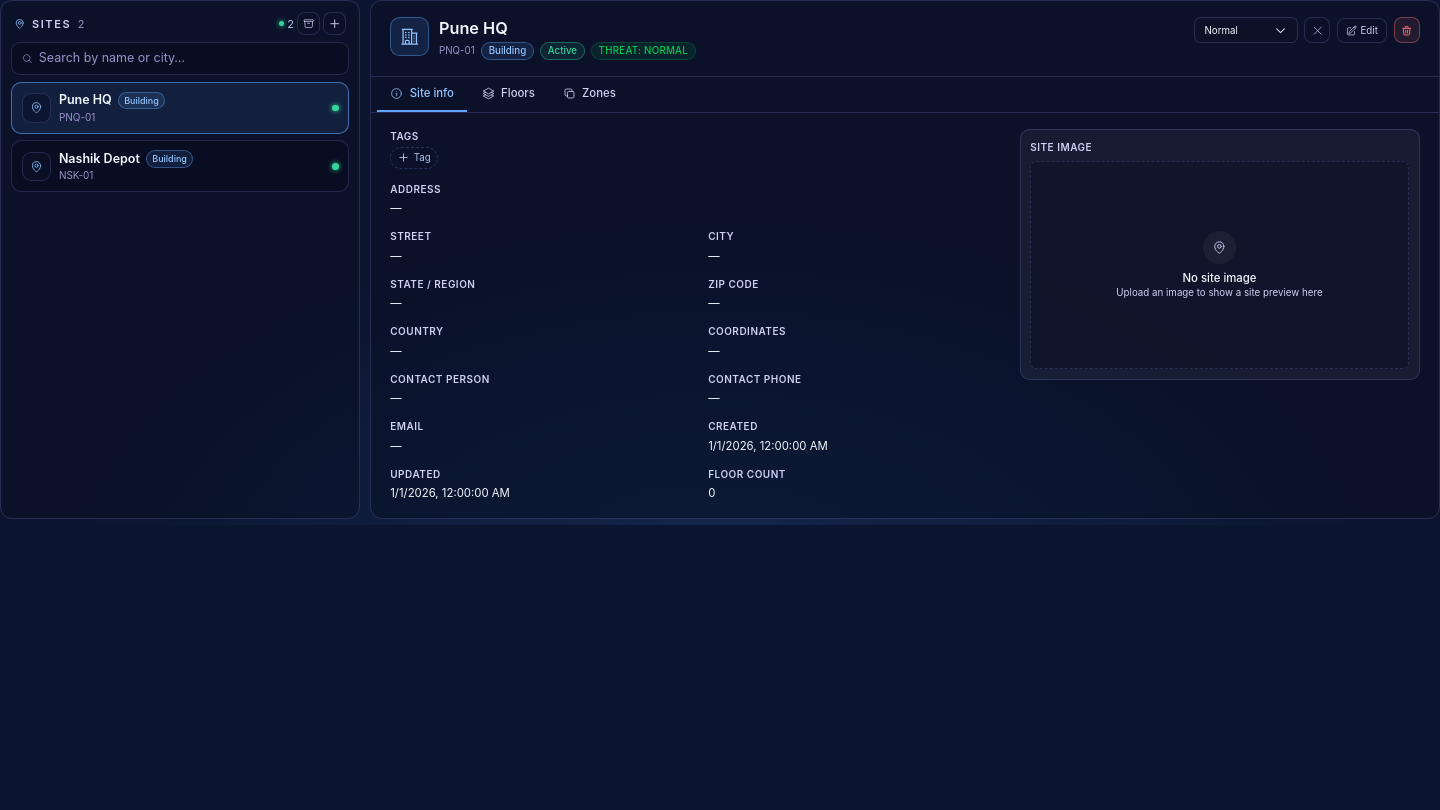
Test case: deactivating a site › asks first, and says what actually happens
Click the button named "deactivate site": (1406, 30) [1394, 17, 1420, 43]
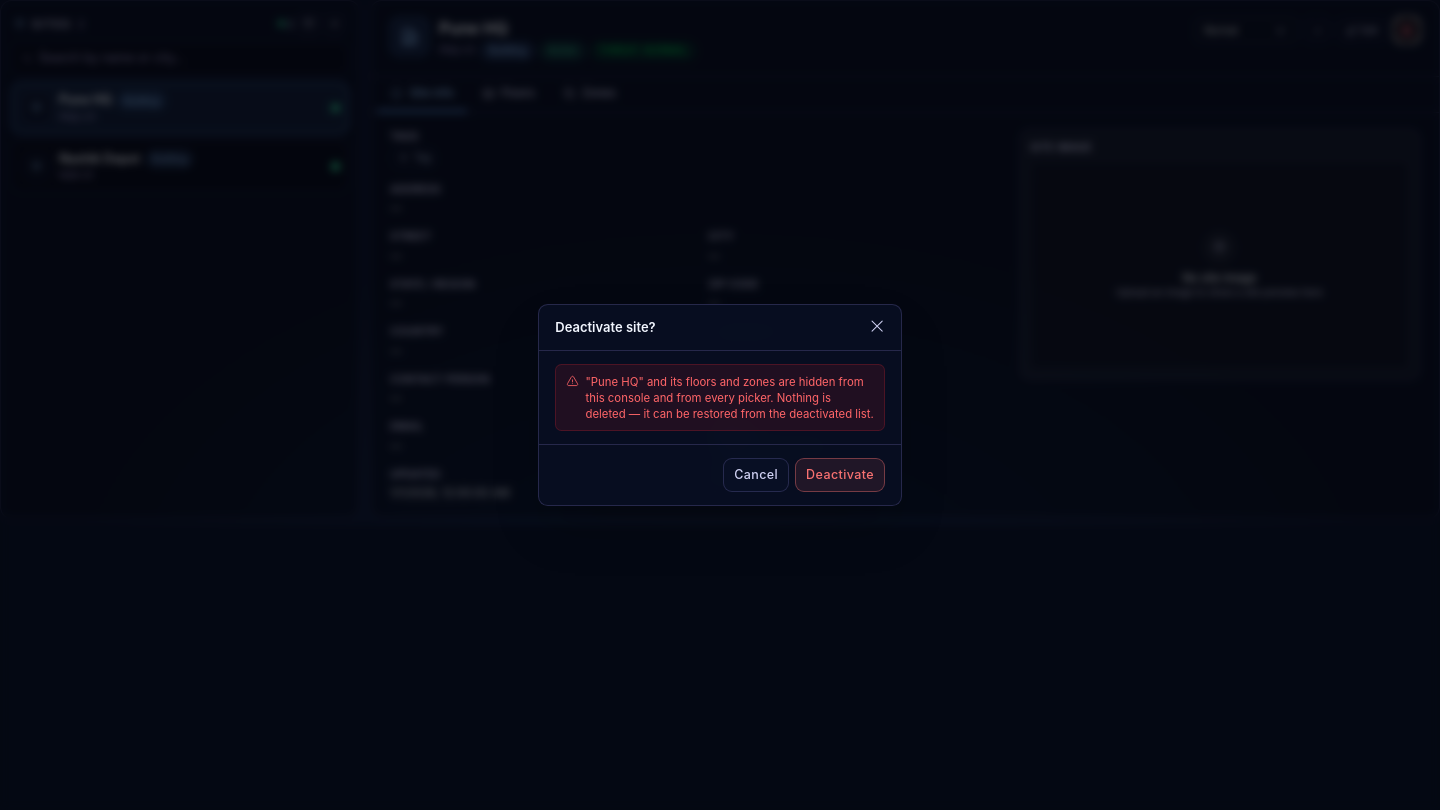
Now the text "nothing is deleted" is shown, box [586, 374, 874, 421]
